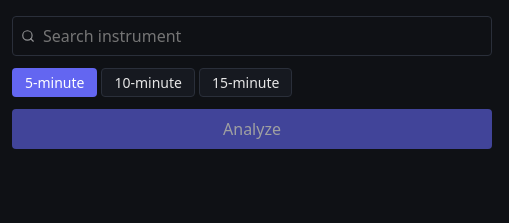
InstrumentSearch › clears the search-error banner once the query is shortened back below two characters
Type "infy" into the field labelled "instrument search". click: (263, 36)
box: [43, 17, 483, 55]
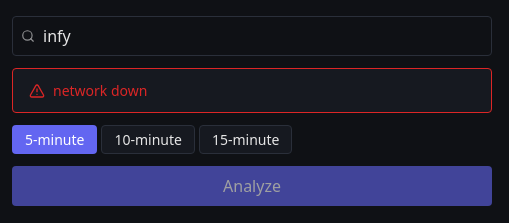
Expected: the text "network down" is shown, [53, 81, 147, 100]
Replace the text in the field named "instrument search" with "i". click: (263, 36)
box: [43, 17, 483, 55]
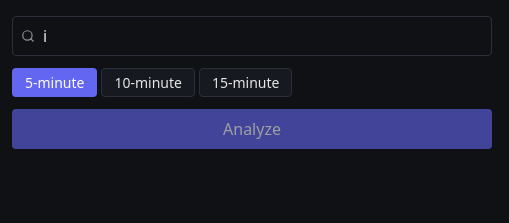
Expected: the text "network down" is gone
